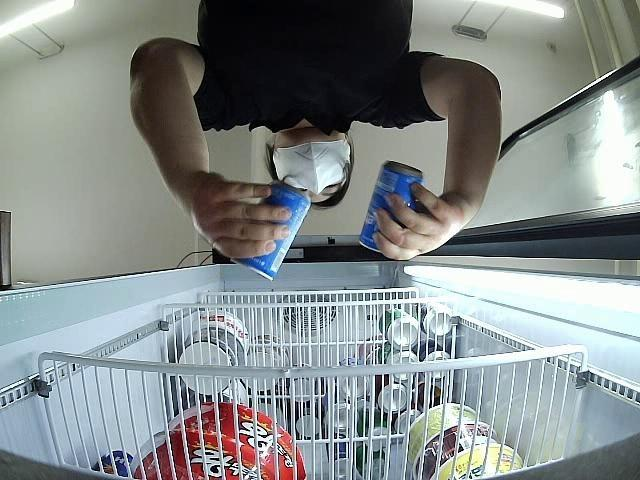15_letsbe: (232, 180, 311, 278), (358, 160, 424, 252)
